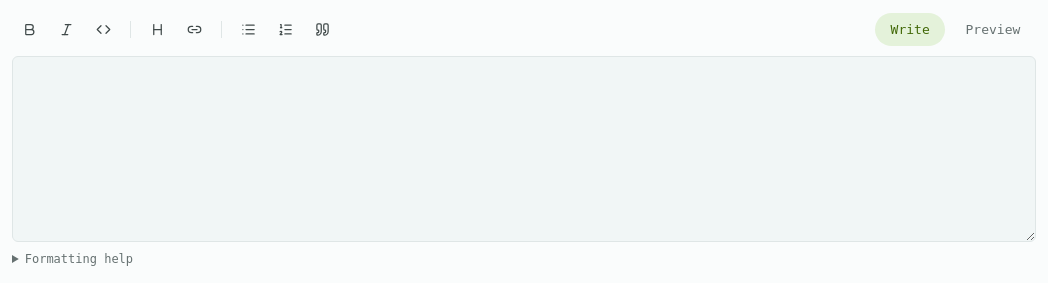
Scenario: MarkdownEditor toolbar › bolds the selection and leaves it selected
Type "hello world" into the text box at (524, 149), box left=12, top=56, right=1036, bottom=242
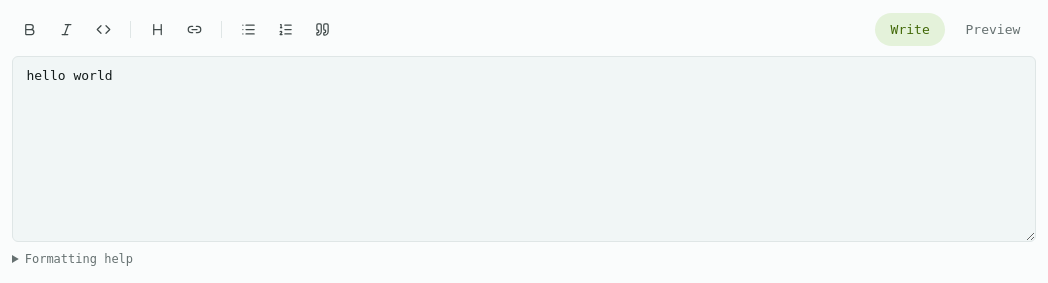
Click the button named "Bold" at (29, 29), box left=12, top=12, right=47, bottom=47
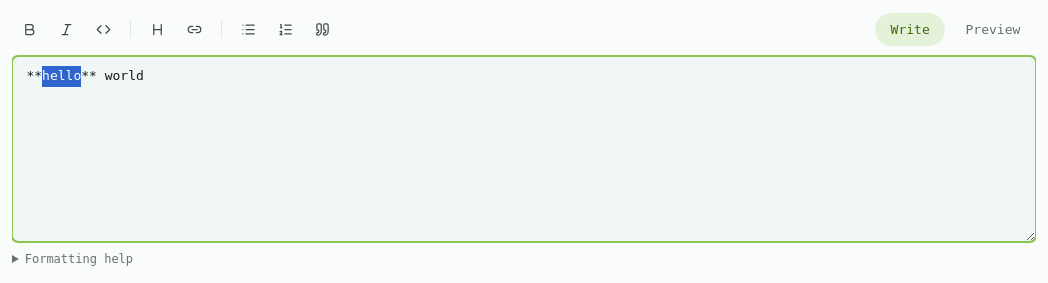
Result: the text box holds "**hello** world"
